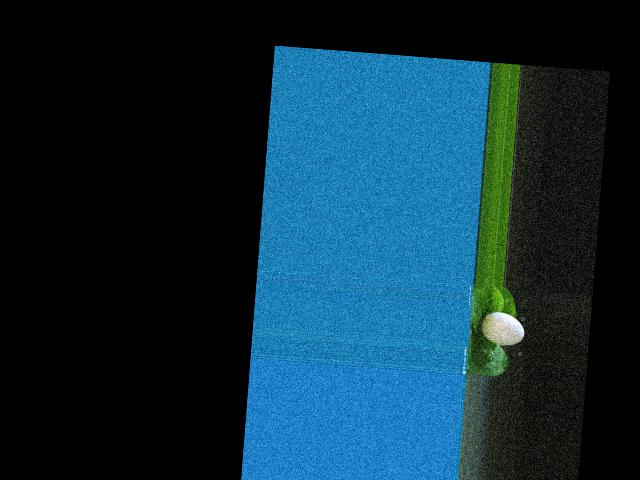egg: (479, 310, 525, 346)
